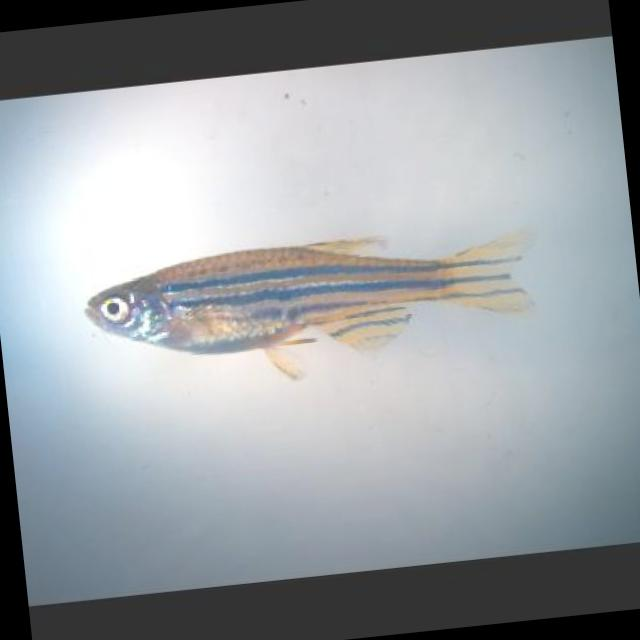ZebraFish: (76, 208, 552, 392)
